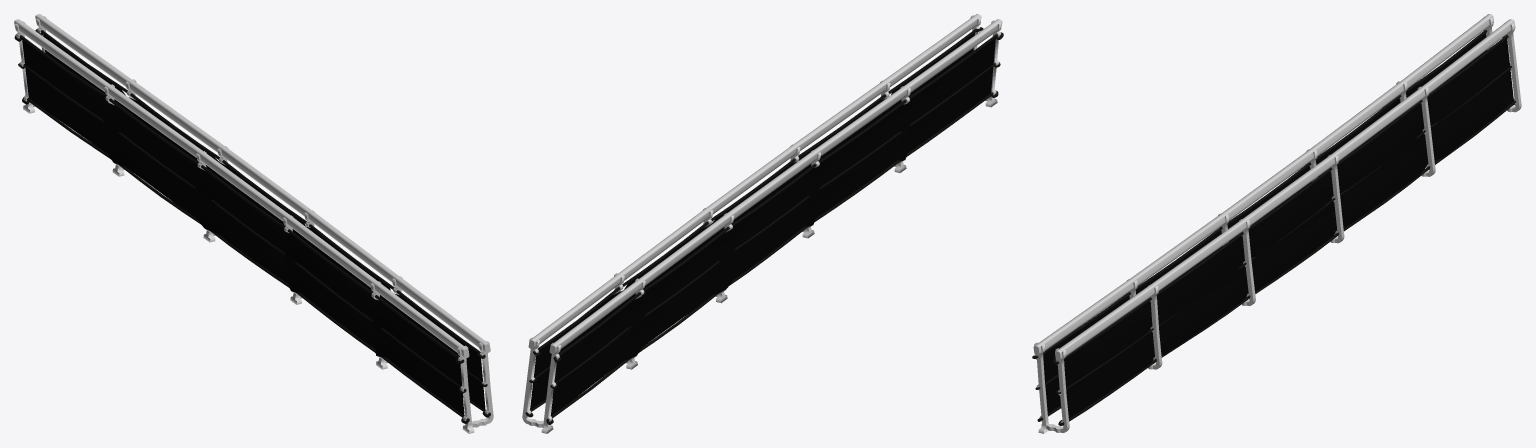
The model's file is SideRailsMiddleLeft.fbx.
The picture shows the model from 3 angles, left to right: view 1: azimuth 30°, elevation 25°; view 2: azimuth 150°, elevation 25°; view 3: azimuth 330°, elevation 25°; orthographic projection.
Visible parts, largest first — view 1: SideRailsMiddleLeft; view 2: SideRailsMiddleLeft; view 3: SideRailsMiddleLeft.
Boxes of the visible parts, x1,y1,x2,y2 form: SideRailsMiddleLeft: (14,14,493,433); SideRailsMiddleLeft: (522,14,1003,433); SideRailsMiddleLeft: (1032,14,1521,433).
Bounding box in the file's own units: 68.86 × 143 × 1284.
